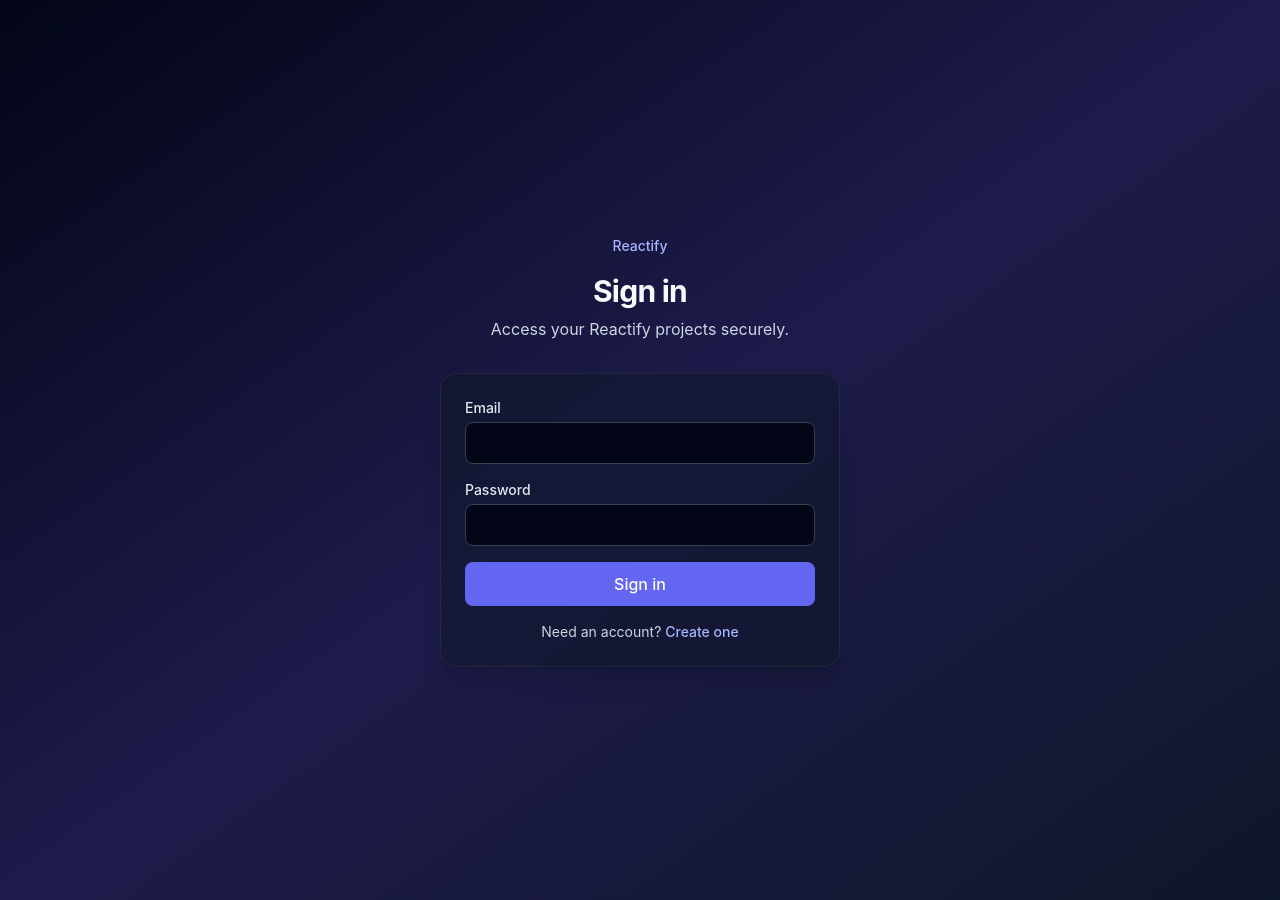
it: auth UI › shows invalid-credentials error on sign-in failure
Type "user@example.com" into the field labelled "Email" at {"x": 640, "y": 443}, box [465,422,815,464]
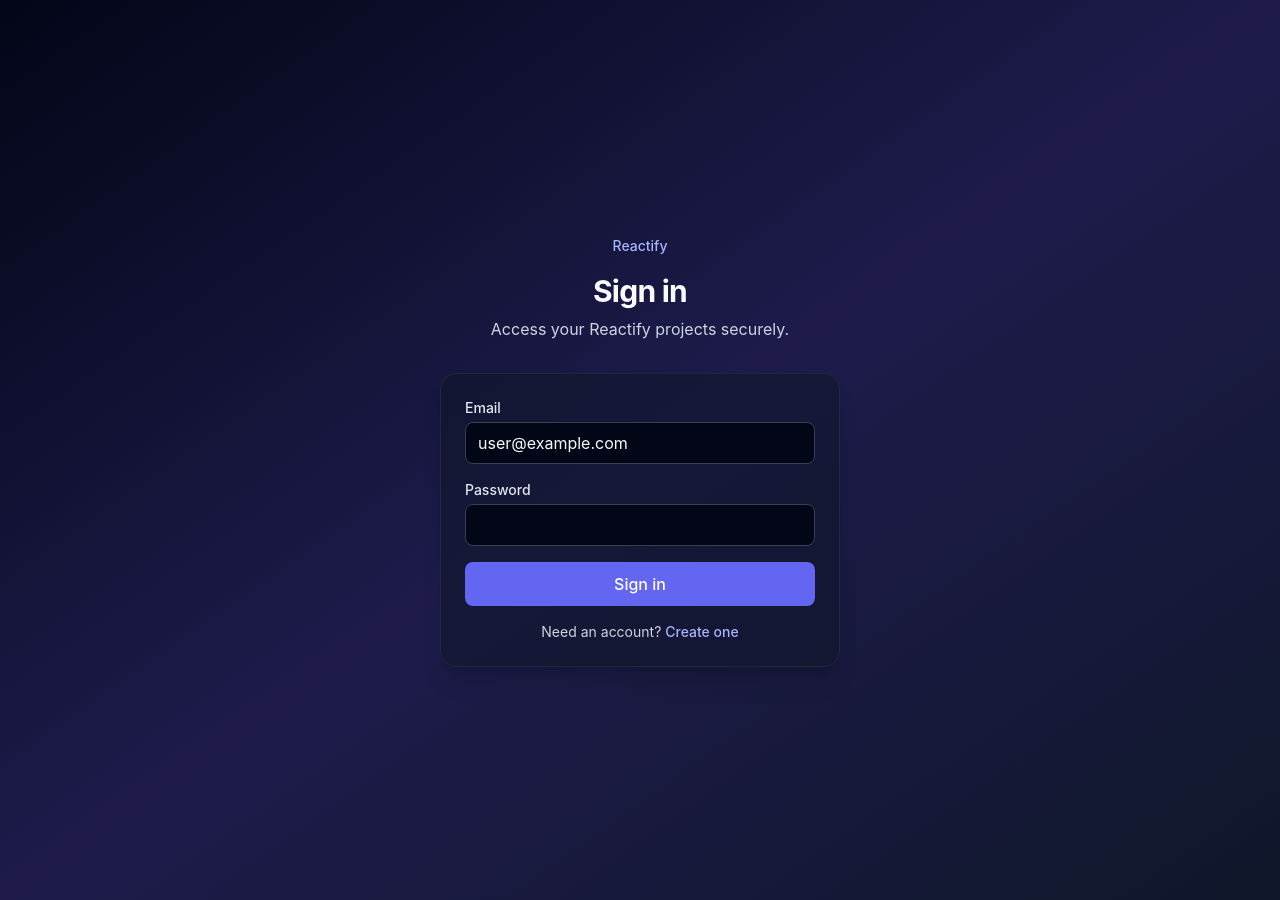
Type "secure-password-123" into the password field labelled "Password" at {"x": 640, "y": 525}, box [465,504,815,546]
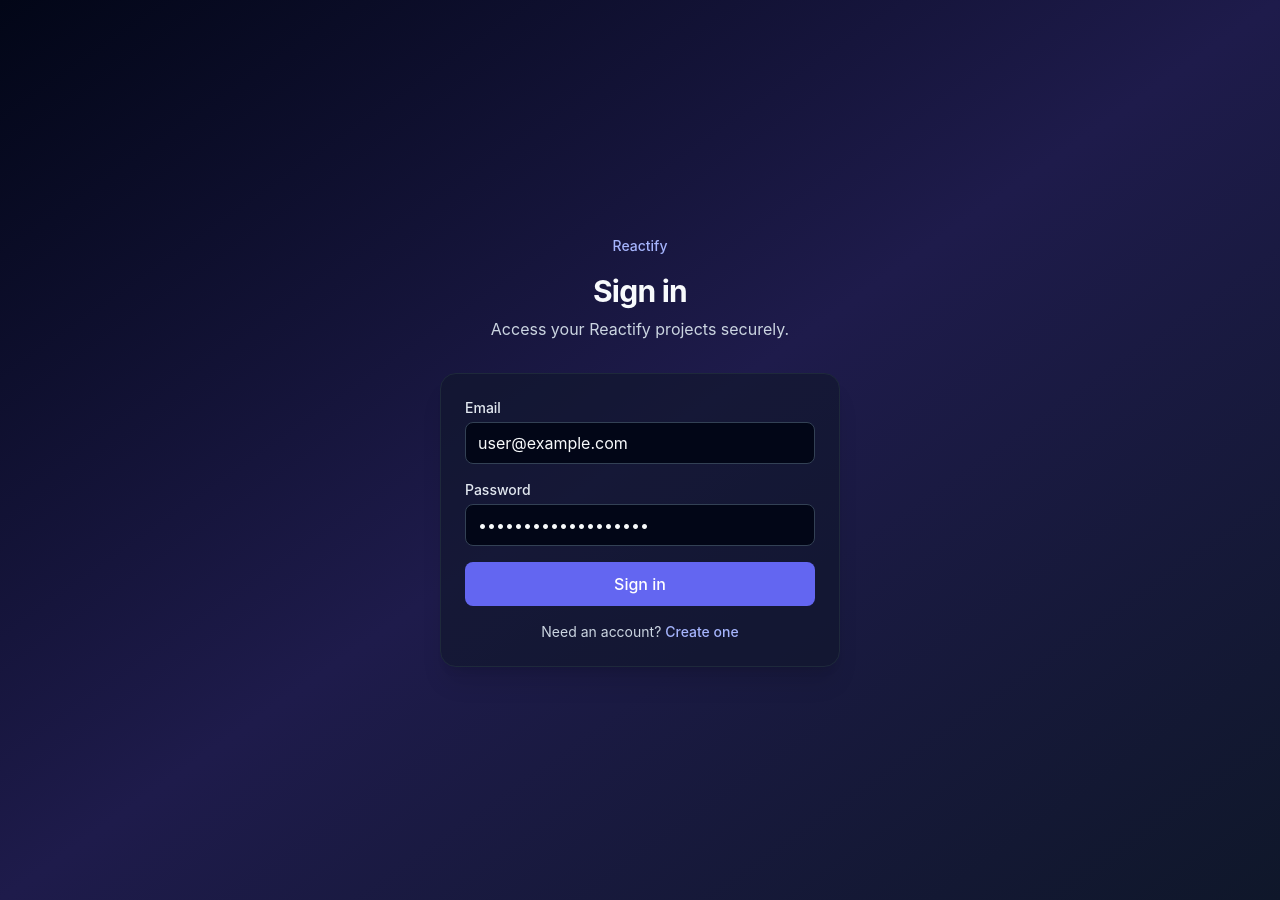
Click the button "Sign in" at {"x": 640, "y": 584}, box [465,562,815,606]
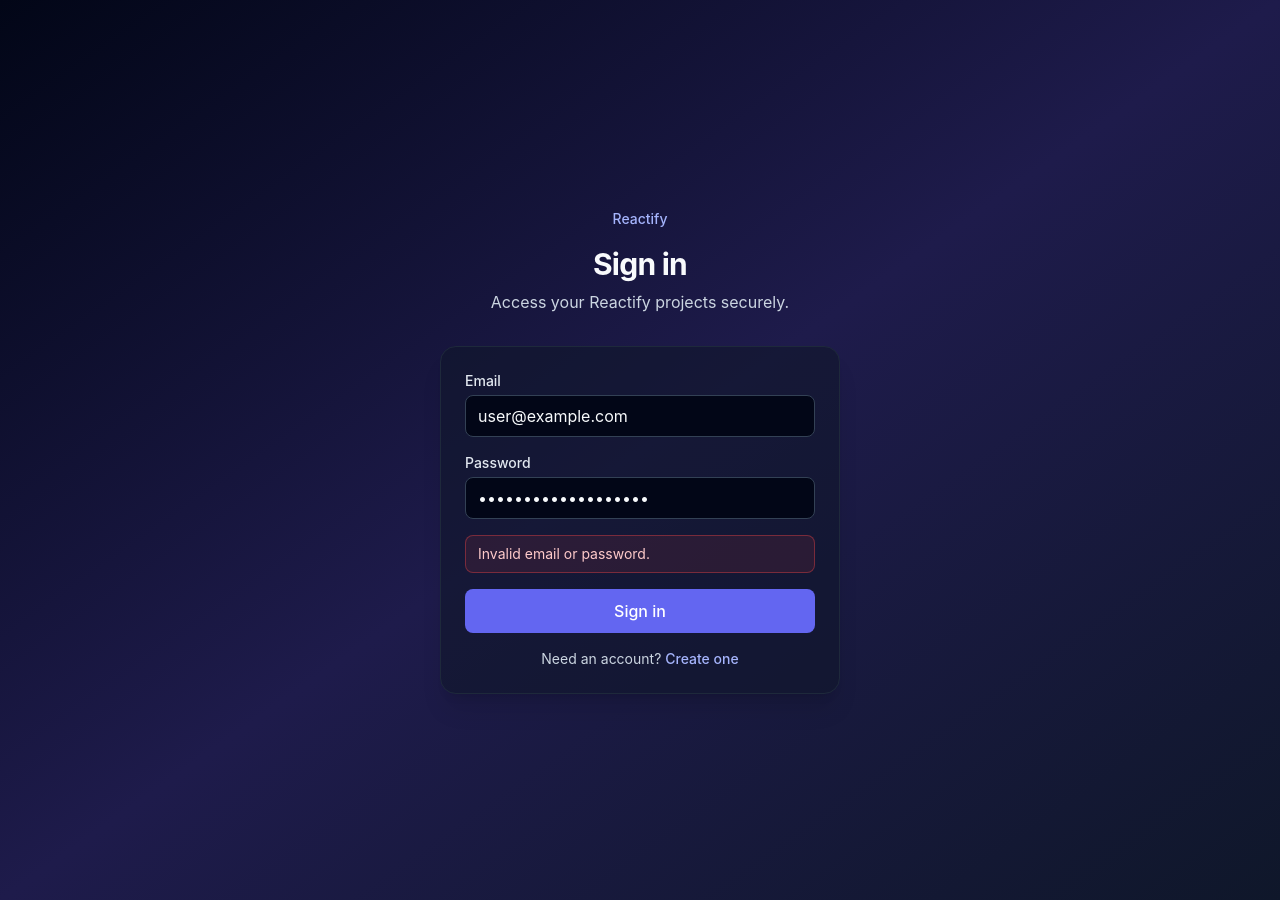
Result: the message shows "Invalid email or password" at [478,545,650,562]
